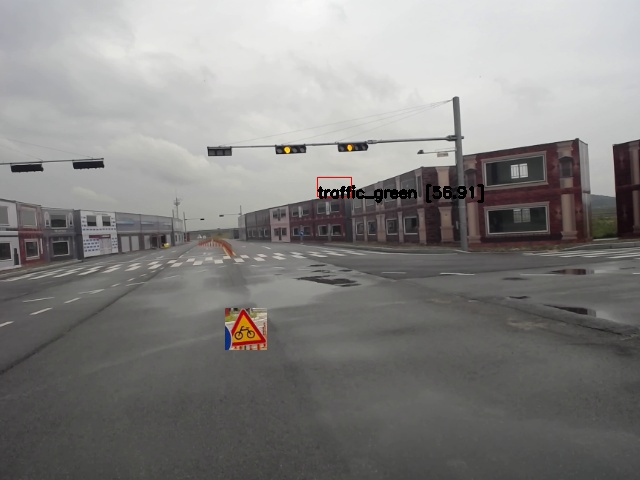orange_4: (273, 144, 308, 156), (336, 141, 369, 152)
